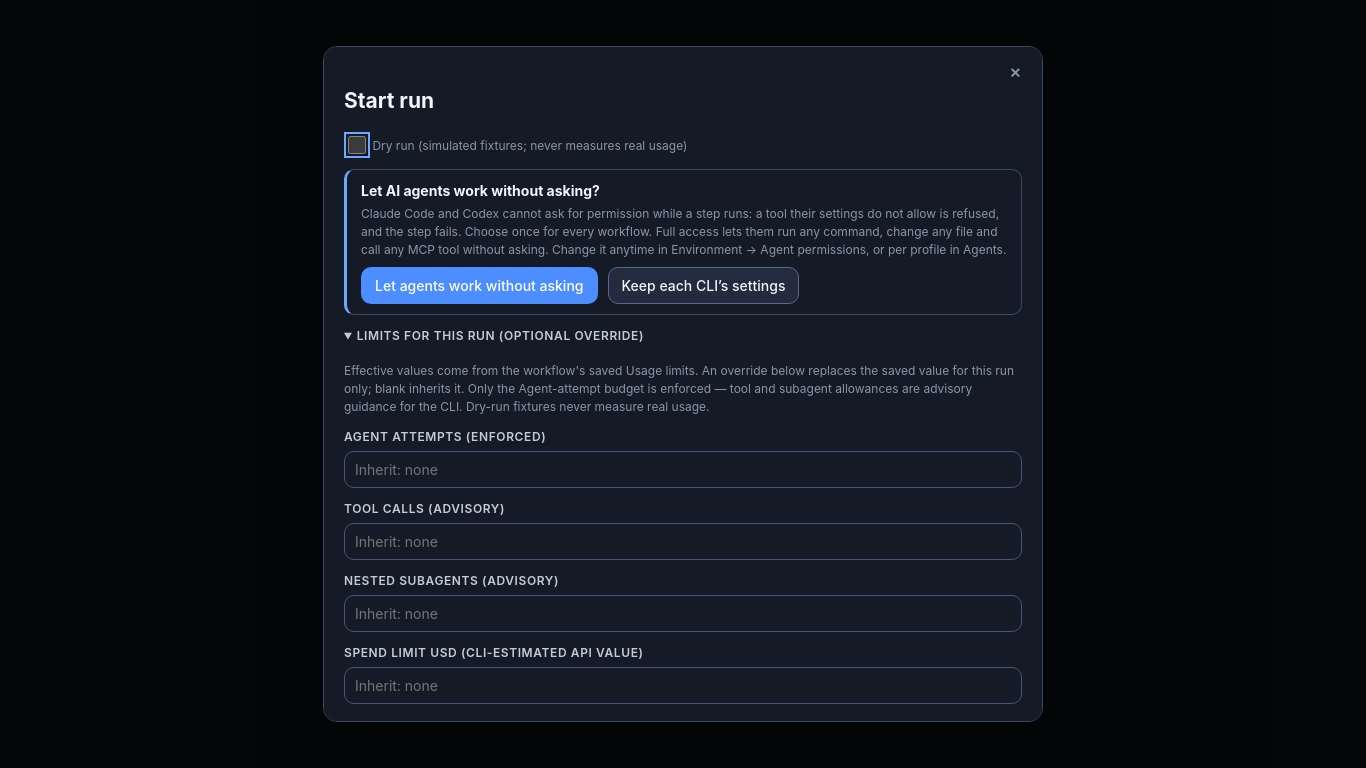
Test case: keeps the CLI settings when chosen and then lists the missing tools
This screenshot has width=1366, height=768.
Click the button "Keep each CLI’s settings".
click(704, 286)  # box x1=608 y1=267 x2=800 y2=304
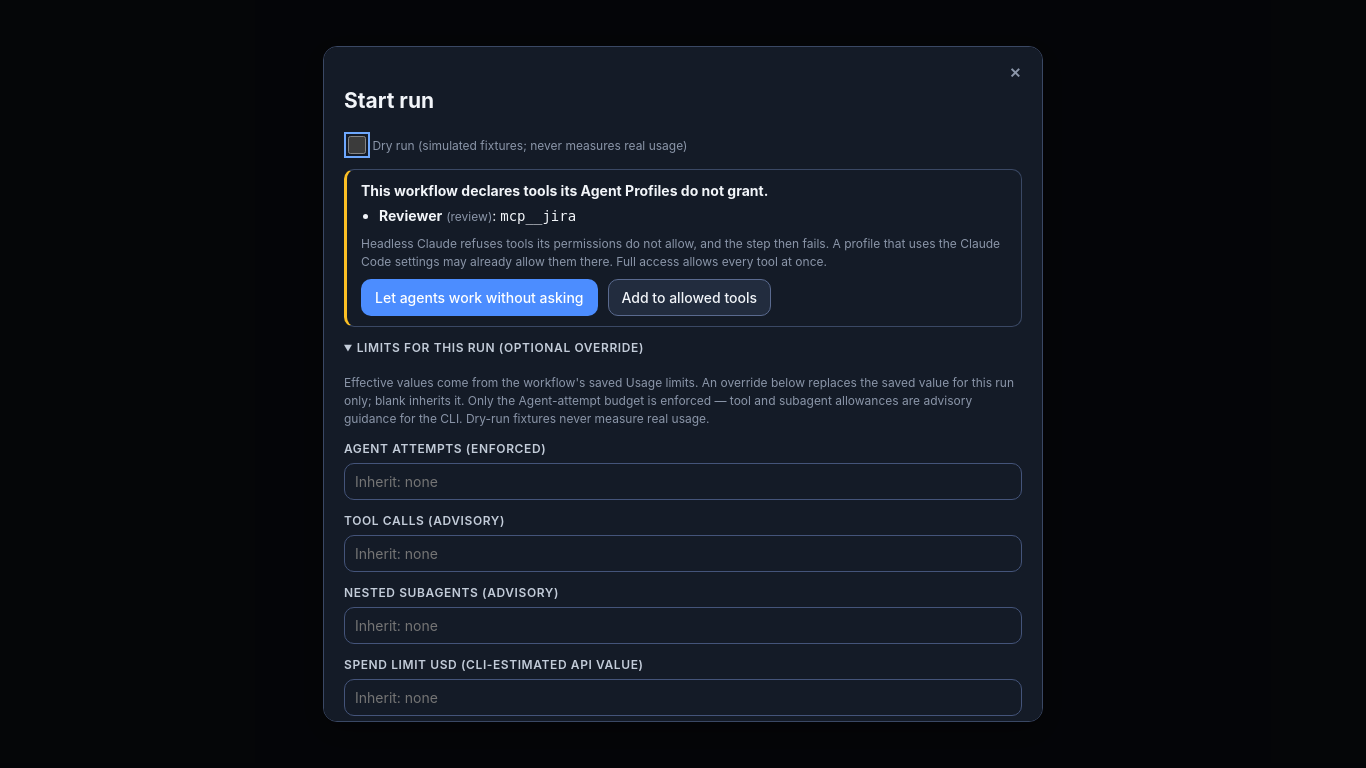
Expected: the button "Let agents work without asking" is shown, x1=361 y1=279 x2=598 y2=316
Expected: the text "This workflow declares tools its Agent Profiles do not grant." is shown, x1=361 y1=182 x2=768 y2=199
